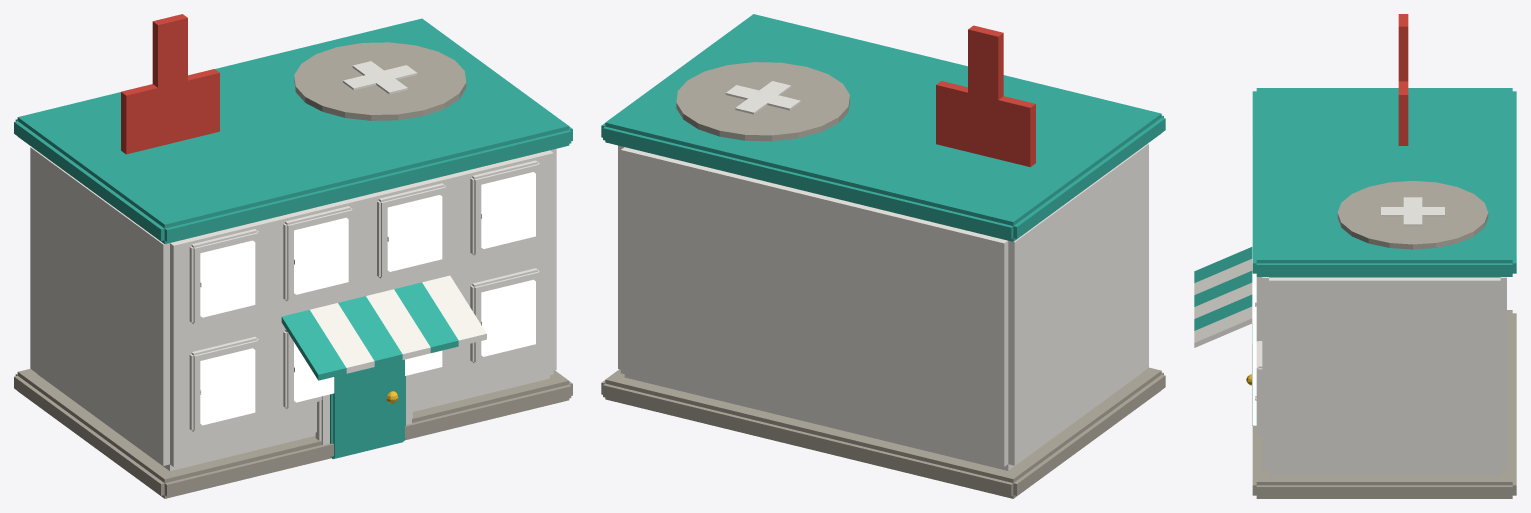
File: hospital.glb
3 renders of one model, left to right at view 1: azimuth 30°, elevation 25°; view 2: azimuth 150°, elevation 25°; view 3: azimuth 270°, elevation 25°, orthographic. The views are drawn at different scales.
Visible parts, largest first — view 1: hospital; view 2: hospital; view 3: hospital.
Part boxes in pixels (box(x1,y1,x2,y2)): hospital: box(14, 14, 572, 498); hospital: box(601, 14, 1165, 498); hospital: box(1194, 14, 1516, 498).
Bounding box in the file's own units: 2.2 × 2.02 × 1.71.
